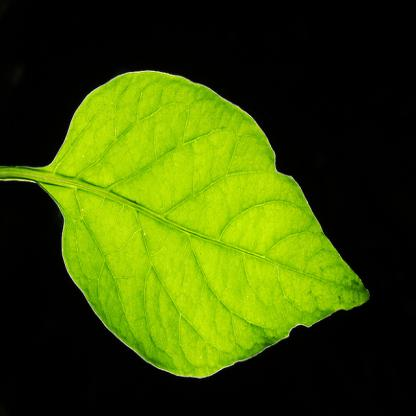Bell_pepper leaf: (47, 65, 372, 387)
